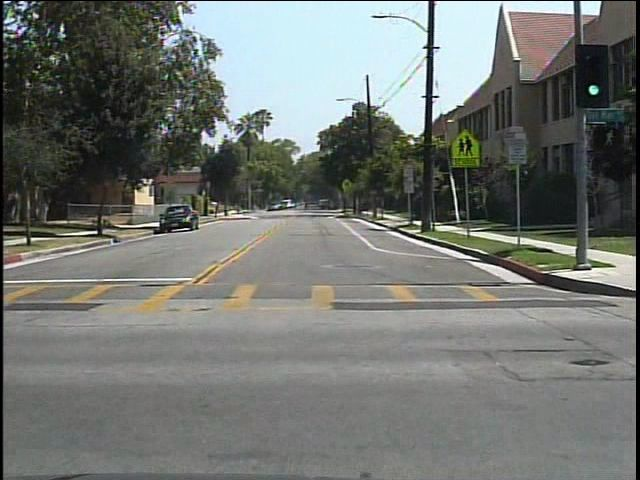person: (300, 197, 315, 215)
